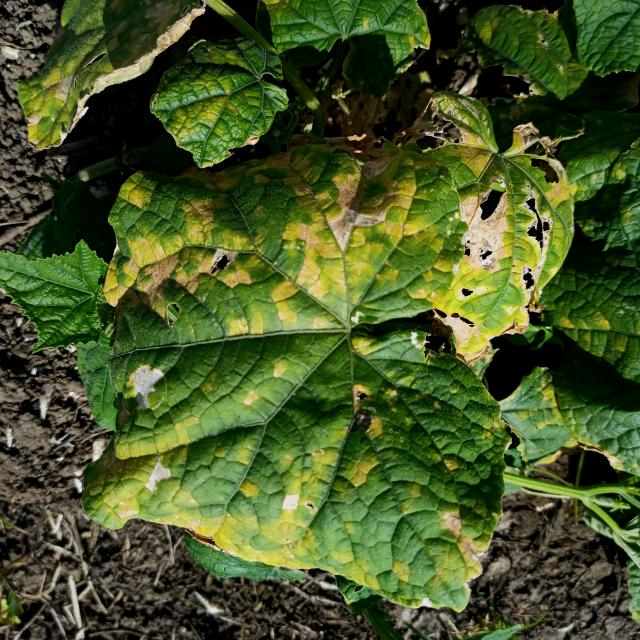disease_cucumber: (95, 139, 552, 614)
